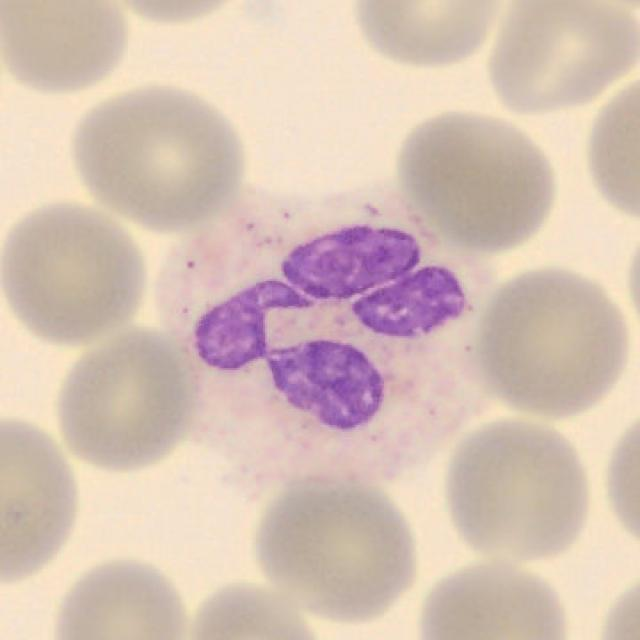Neutrofilo segmentado: (156, 188, 494, 485)
